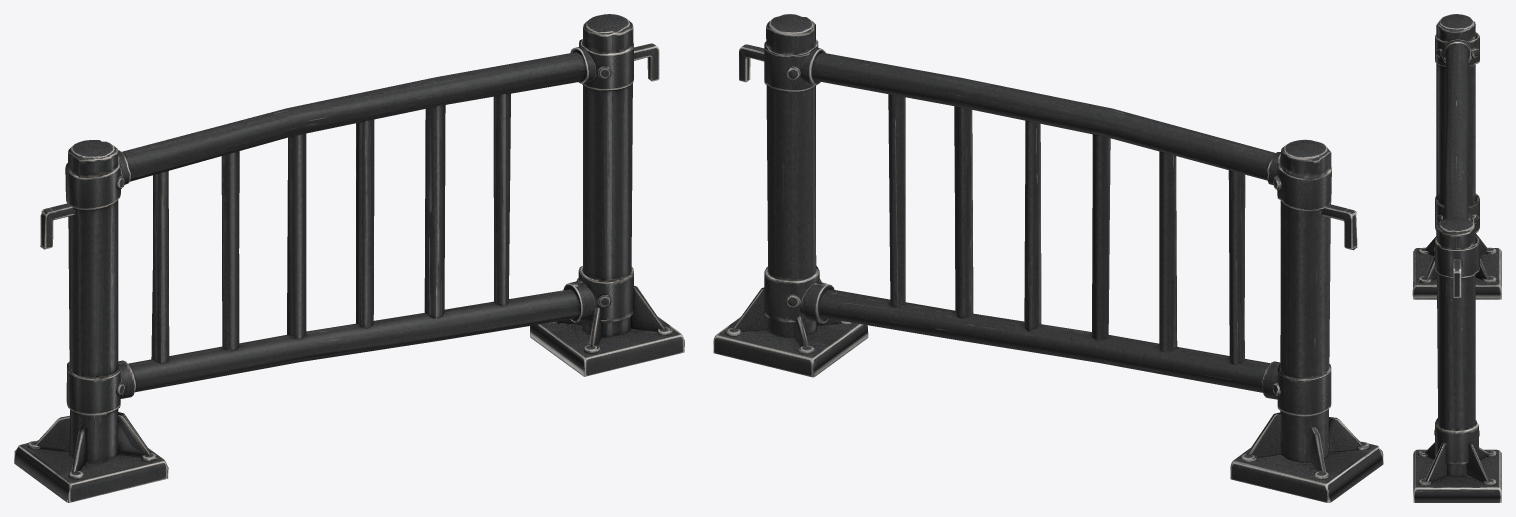
Rendered from rail.glb.
3 renders of one model, left to right at view 1: azimuth 30°, elevation 25°; view 2: azimuth 150°, elevation 25°; view 3: azimuth 270°, elevation 25°, orthographic. The views are drawn at different scales.
Bounding box in the file's own units: 0.9556 × 0.4775 × 0.1484.
1 material, 1 textured.
